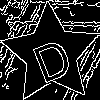D: (26, 29, 76, 85)
